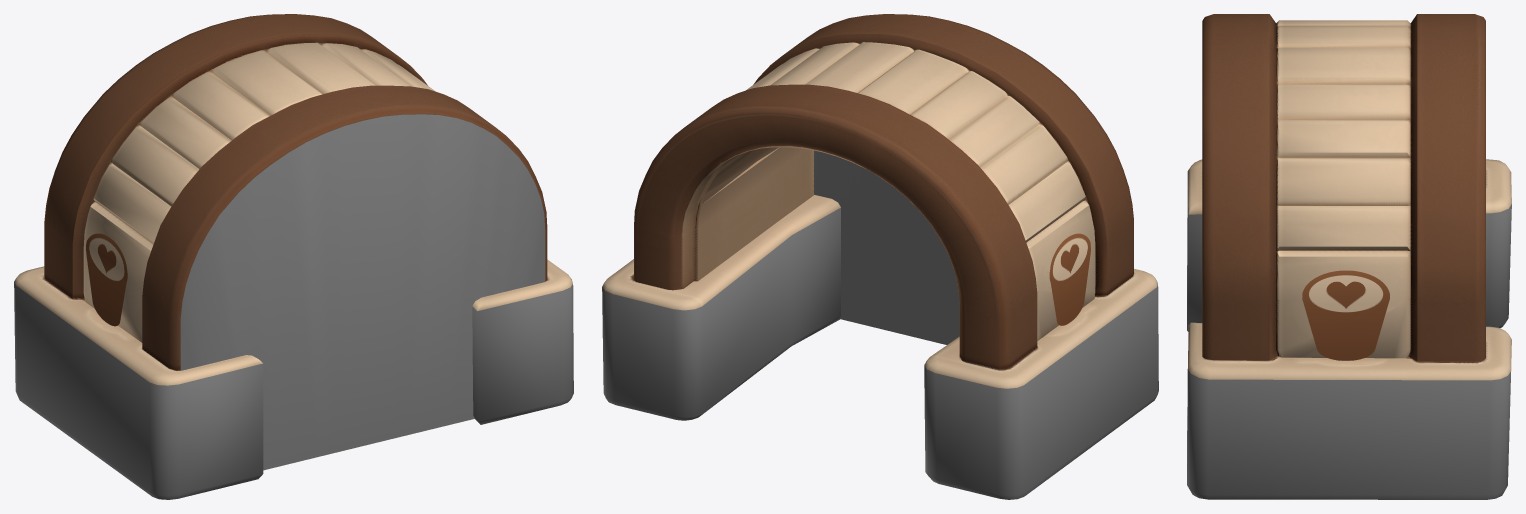
Rendered from Entrances.fbx.
3 views of the same model, side by side, from view 1: azimuth 30°, elevation 25°; view 2: azimuth 150°, elevation 25°; view 3: azimuth 270°, elevation 25° (orthographic). The views are drawn at different scales.
Parts seen in each view (by area): view 1: Entrances; view 2: Entrances; view 3: Entrances.
Boxes of the visible parts, box(x1,y1,x2,y2) form: Entrances: box(14, 14, 573, 499); Entrances: box(602, 14, 1158, 499); Entrances: box(1187, 14, 1511, 499).
Size of the model in its own units: 522 by 393 by 329.
